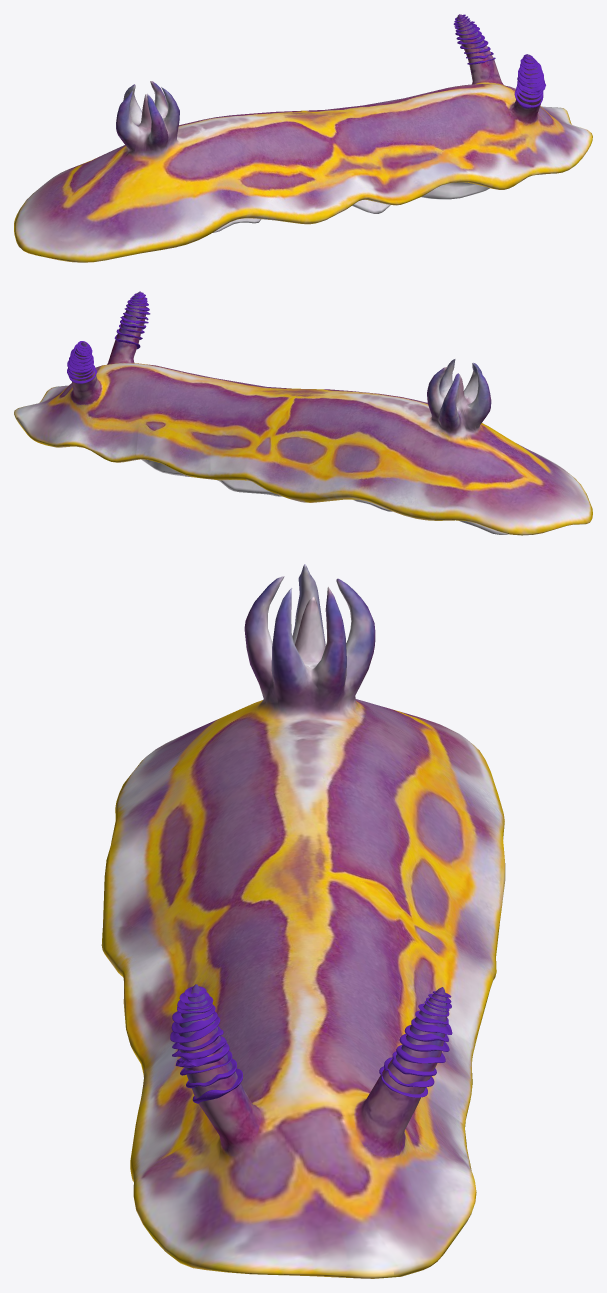
File: nudibranch.glb
3 views of the same model, one above another, from view 1: azimuth 30°, elevation 25°; view 2: azimuth 150°, elevation 25°; view 3: azimuth 270°, elevation 25° (orthographic). The views are drawn at different scales.
Visible parts, largest first — view 1: Felimida Britoi; view 2: Felimida Britoi; view 3: Felimida Britoi.
Boxes of the visible parts, bbox=[...] form: Felimida Britoi: bbox=[14, 14, 592, 262]; Felimida Britoi: bbox=[14, 291, 592, 535]; Felimida Britoi: bbox=[101, 564, 505, 1278].
Bounding box in the file's own units: 76.8 × 20.86 × 24.09.
Materials: 2 (1 with a texture image).
